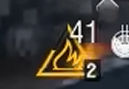2fire: (35, 44, 101, 83)
